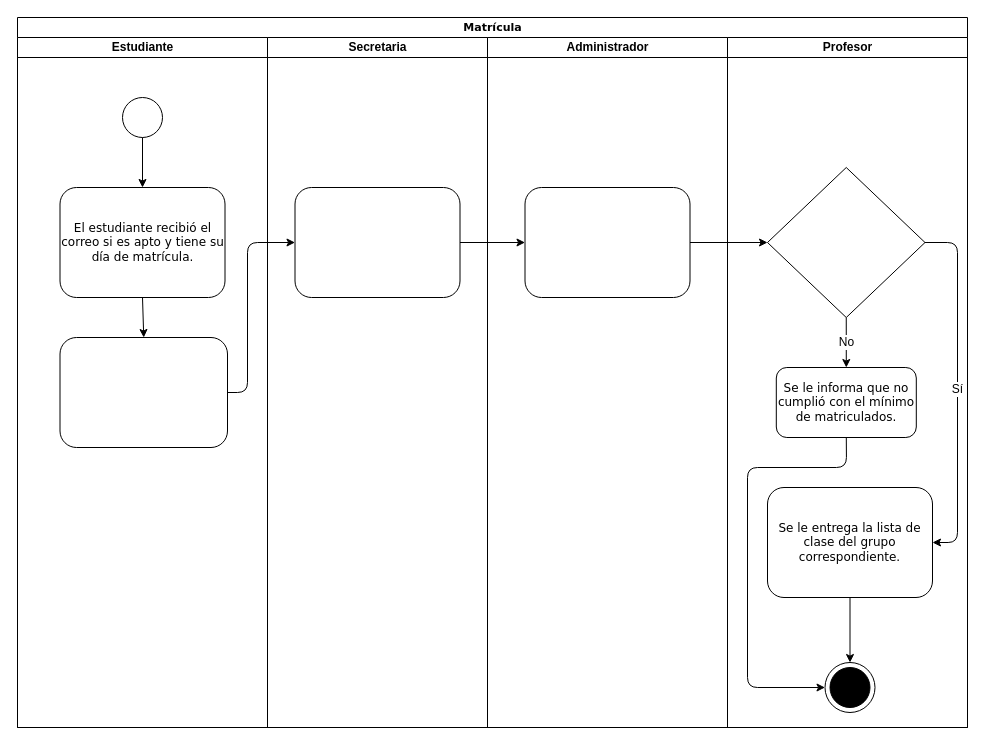
This 985x745 diagram has some shape labels left out. Each missing label, with the centre of its shape:
El grupo cumple con el número mínimo de matriculados.: the point at 845,242
Ingresa al Excel el día de la matrícula y registra sus datos.: the point at 143,392
Obtiene todos los datos.: the point at 607,242
Se crean los cursos y sus grupos.: the point at 377,242
